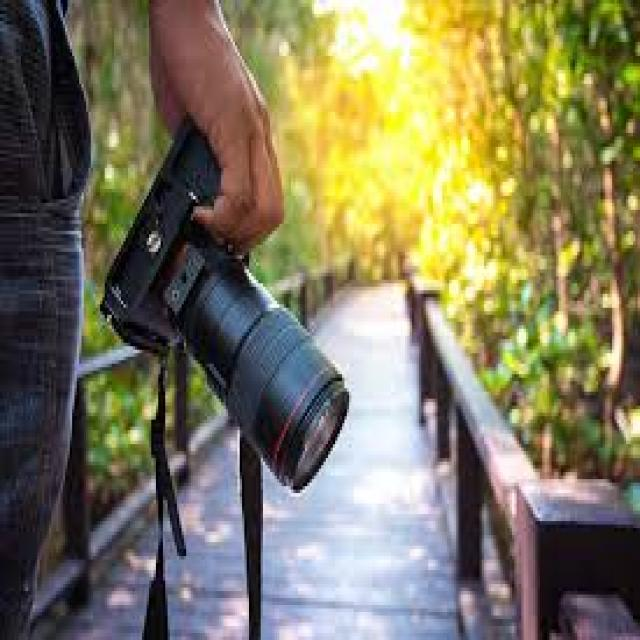camera: (104, 128, 349, 492)
